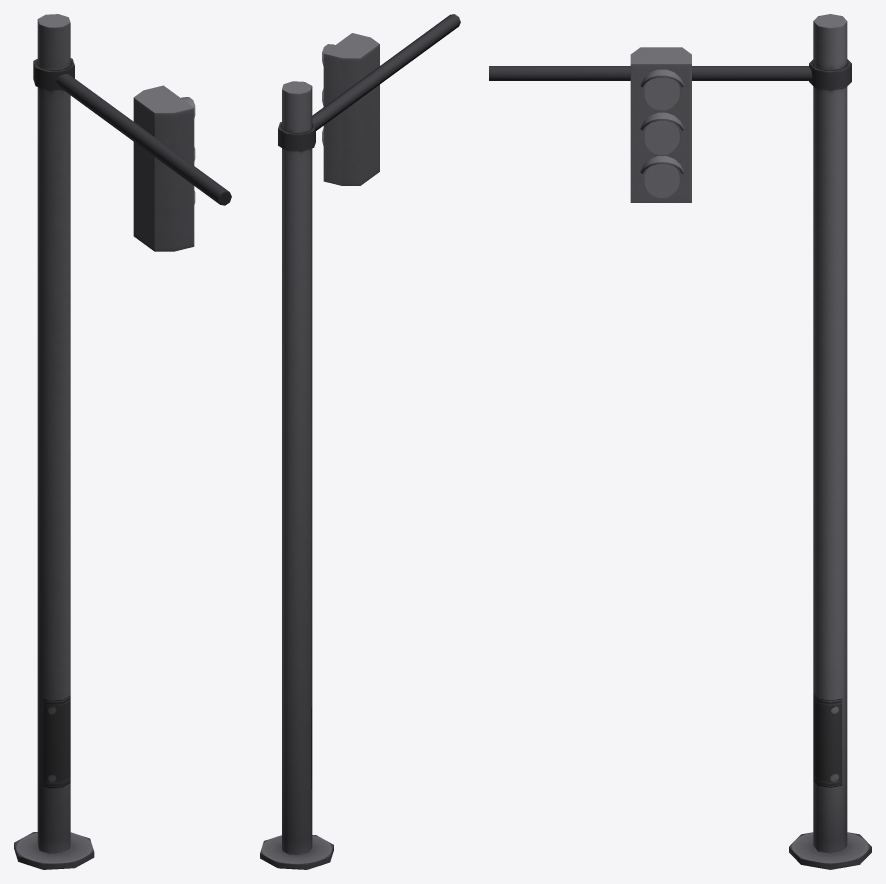
The model's file is traffic lights.FBX.
The picture shows the model from 3 angles, left to right: view 1: azimuth 30°, elevation 25°; view 2: azimuth 150°, elevation 25°; view 3: azimuth 270°, elevation 25°; orthographic projection. The views are drawn at different scales.
Visible parts, largest first — view 1: Cylinder002; view 2: Cylinder002; view 3: Cylinder002.
Part boxes in pixels (bbox=[...]): Cylinder002: bbox=[14, 14, 231, 869]; Cylinder002: bbox=[260, 14, 460, 869]; Cylinder002: bbox=[489, 14, 871, 869].
Bounding box in the file's own units: 0.9453 × 8.47 × 3.54.
1 material, 1 textured.
